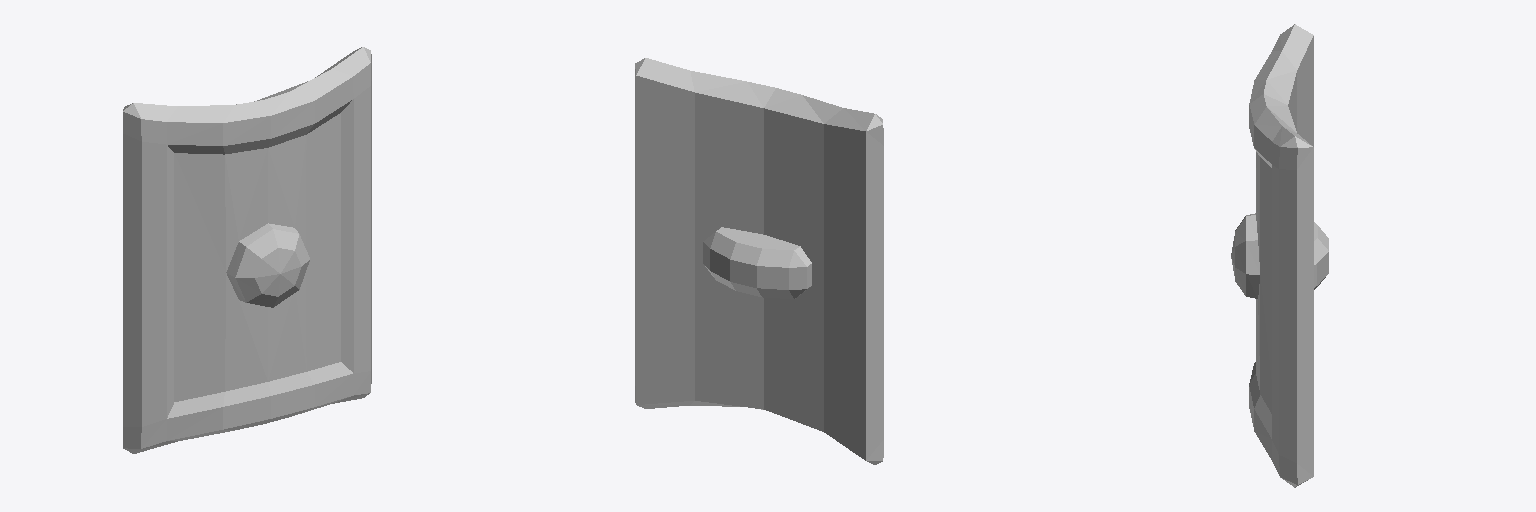
File: shield_square.obj
The picture shows the model from 3 angles: view 1: azimuth 30°, elevation 25°; view 2: azimuth 150°, elevation 25°; view 3: azimuth 270°, elevation 25°; orthographic projection.
Visible parts, largest first — view 1: shield_square; view 2: shield_square; view 3: shield_square.
Part boxes in pixels (bbox=[...]): shield_square: bbox=[123, 47, 371, 453]; shield_square: bbox=[635, 58, 883, 464]; shield_square: bbox=[1231, 24, 1328, 487].
Size of the model in its own units: 0.8826 by 1.19 by 0.3011.